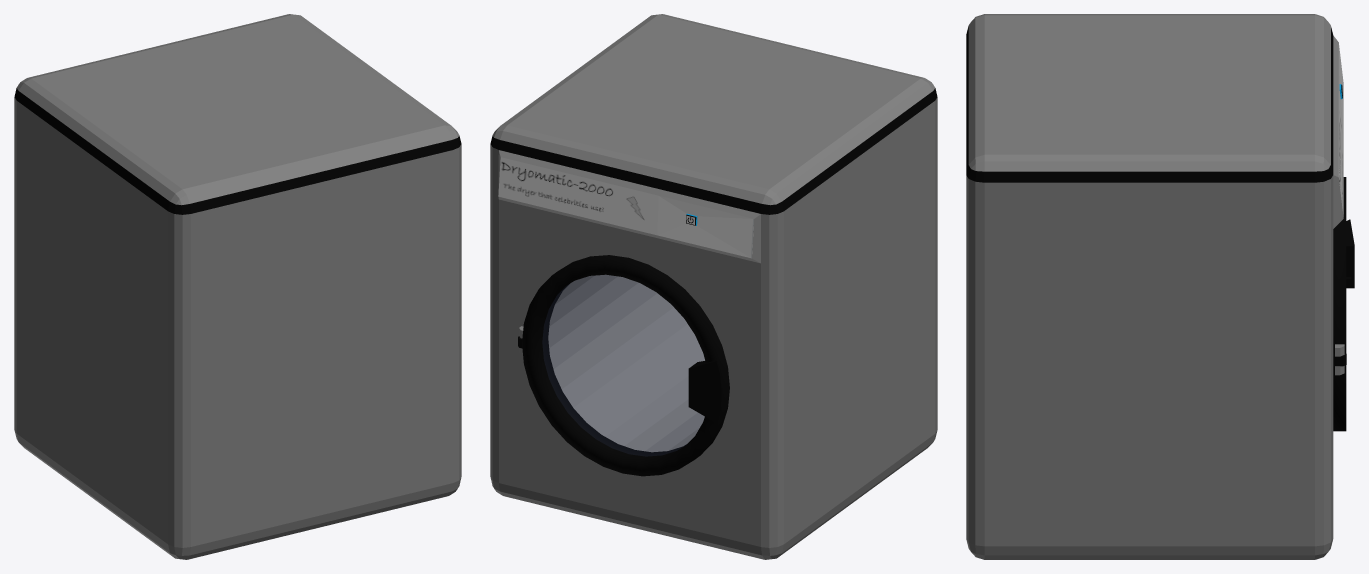
The model's file is Dryer.fbx.
3 views of the same model, side by side, from view 1: azimuth 30°, elevation 25°; view 2: azimuth 150°, elevation 25°; view 3: azimuth 270°, elevation 25° (orthographic). The views are drawn at different scales.
Parts seen in each view (by area): view 1: Dryer; view 2: Dryer, BarrelDoorWindow, BarrelDoor; view 3: Dryer, BarrelDoor.
Part boxes in pixels (x1,y1,x2,y2): Dryer: [14, 14, 461, 559]; Dryer: [490, 14, 937, 559]; BarrelDoorWindow: [543, 275, 704, 455]; BarrelDoor: [519, 255, 729, 476]; Dryer: [966, 14, 1346, 559]; BarrelDoor: [1333, 177, 1354, 431].
Size of the model in its own units: 70 by 85 by 74.1.
